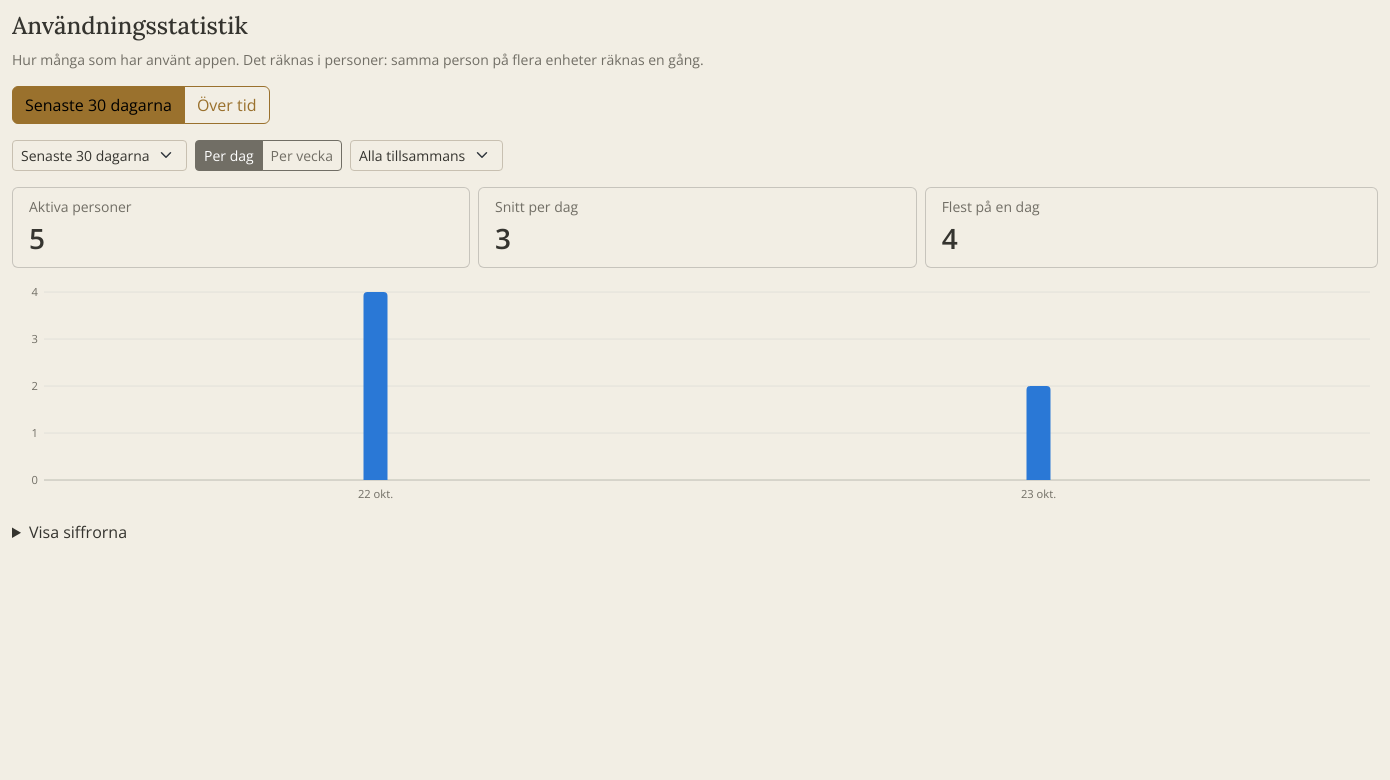
AdminUsage › groups by branch and by federation without asking again
Expected: the picture is shown, [12, 284, 1378, 504]
Select "Per klubb" in the dropdown named "Gruppering" at (426, 155), box [350, 140, 503, 171]
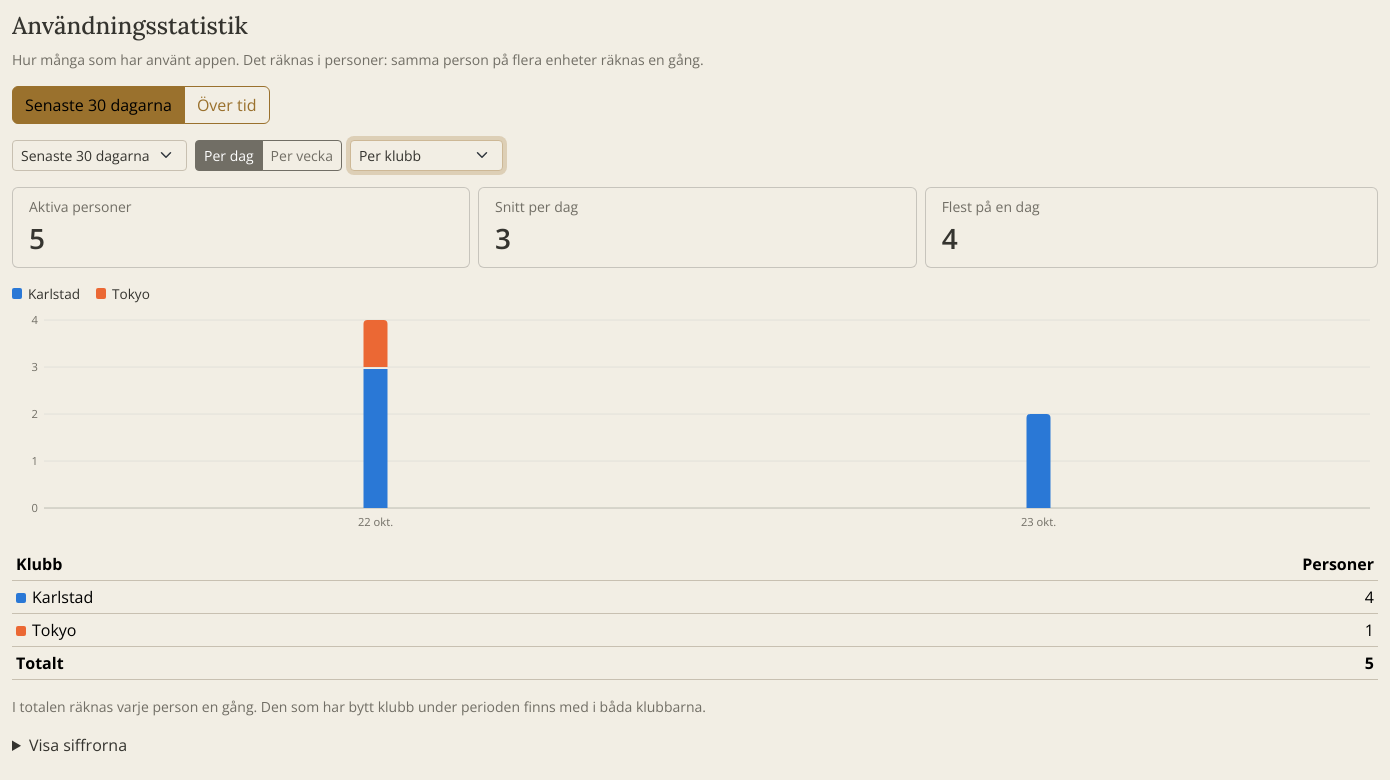
Expected: the column heading "Klubb" is shown, [12, 548, 717, 581]
Expected: the text "Karlstad" is shown, [12, 284, 80, 304]
Select "Per förbund" in the dropdown named "Gruppering" at (426, 155), box [350, 140, 503, 171]
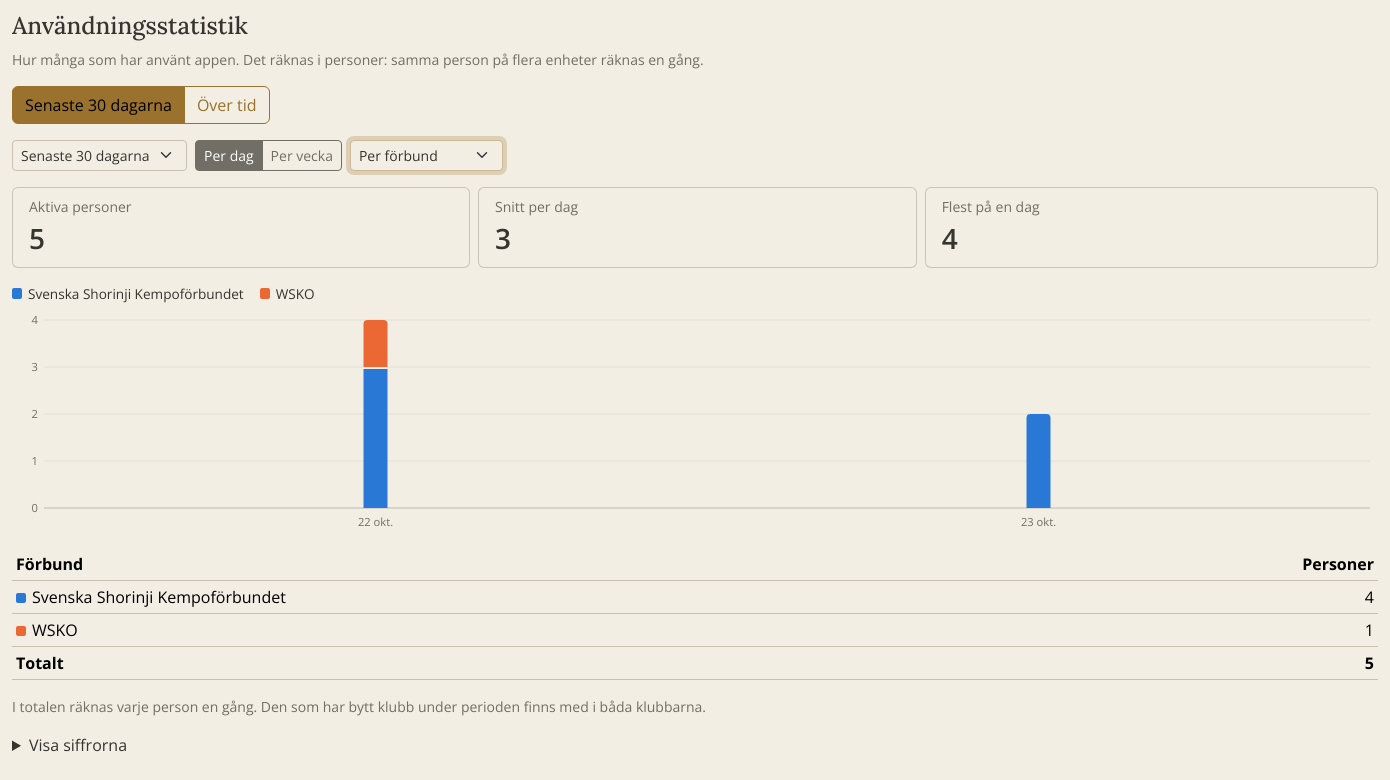
Expected: the column heading "Förbund" is shown, [12, 548, 1073, 581]
Expected: the text "Svenska Shorinji Kempoförbundet" is shown, [12, 284, 244, 304]
Expected: the text "WSKO" is shown, [260, 284, 315, 304]
